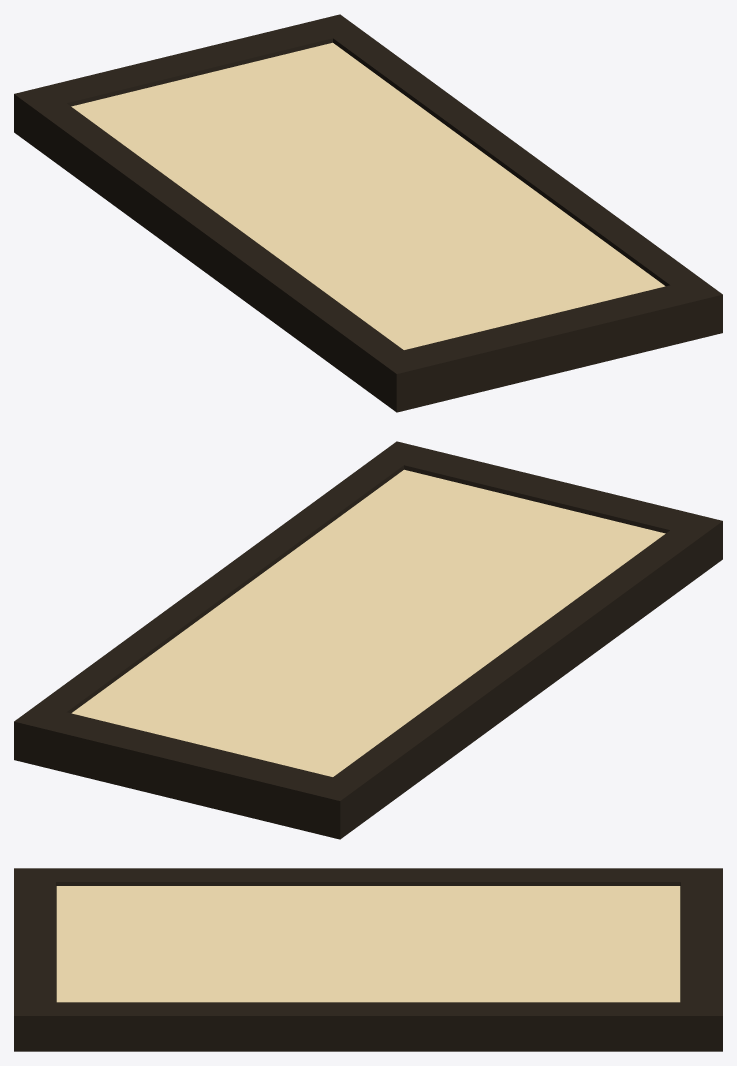
The model's file is Alas.fbx.
3 views of the same model, one above another, from view 1: azimuth 30°, elevation 25°; view 2: azimuth 150°, elevation 25°; view 3: azimuth 270°, elevation 25° (orthographic). The views are drawn at different scales.
Parts seen in each view (by area): view 1: Cube.010; view 2: Cube.010; view 3: Cube.010.
Part boxes in pixels (x1=…): Cube.010: x1=14, y1=14, x2=722, y2=412; Cube.010: x1=14, y1=441, x2=722, y2=839; Cube.010: x1=14, y1=868, x2=722, y2=1051.
Bounding box in the file's own units: 1773 × 200 × 3605.
